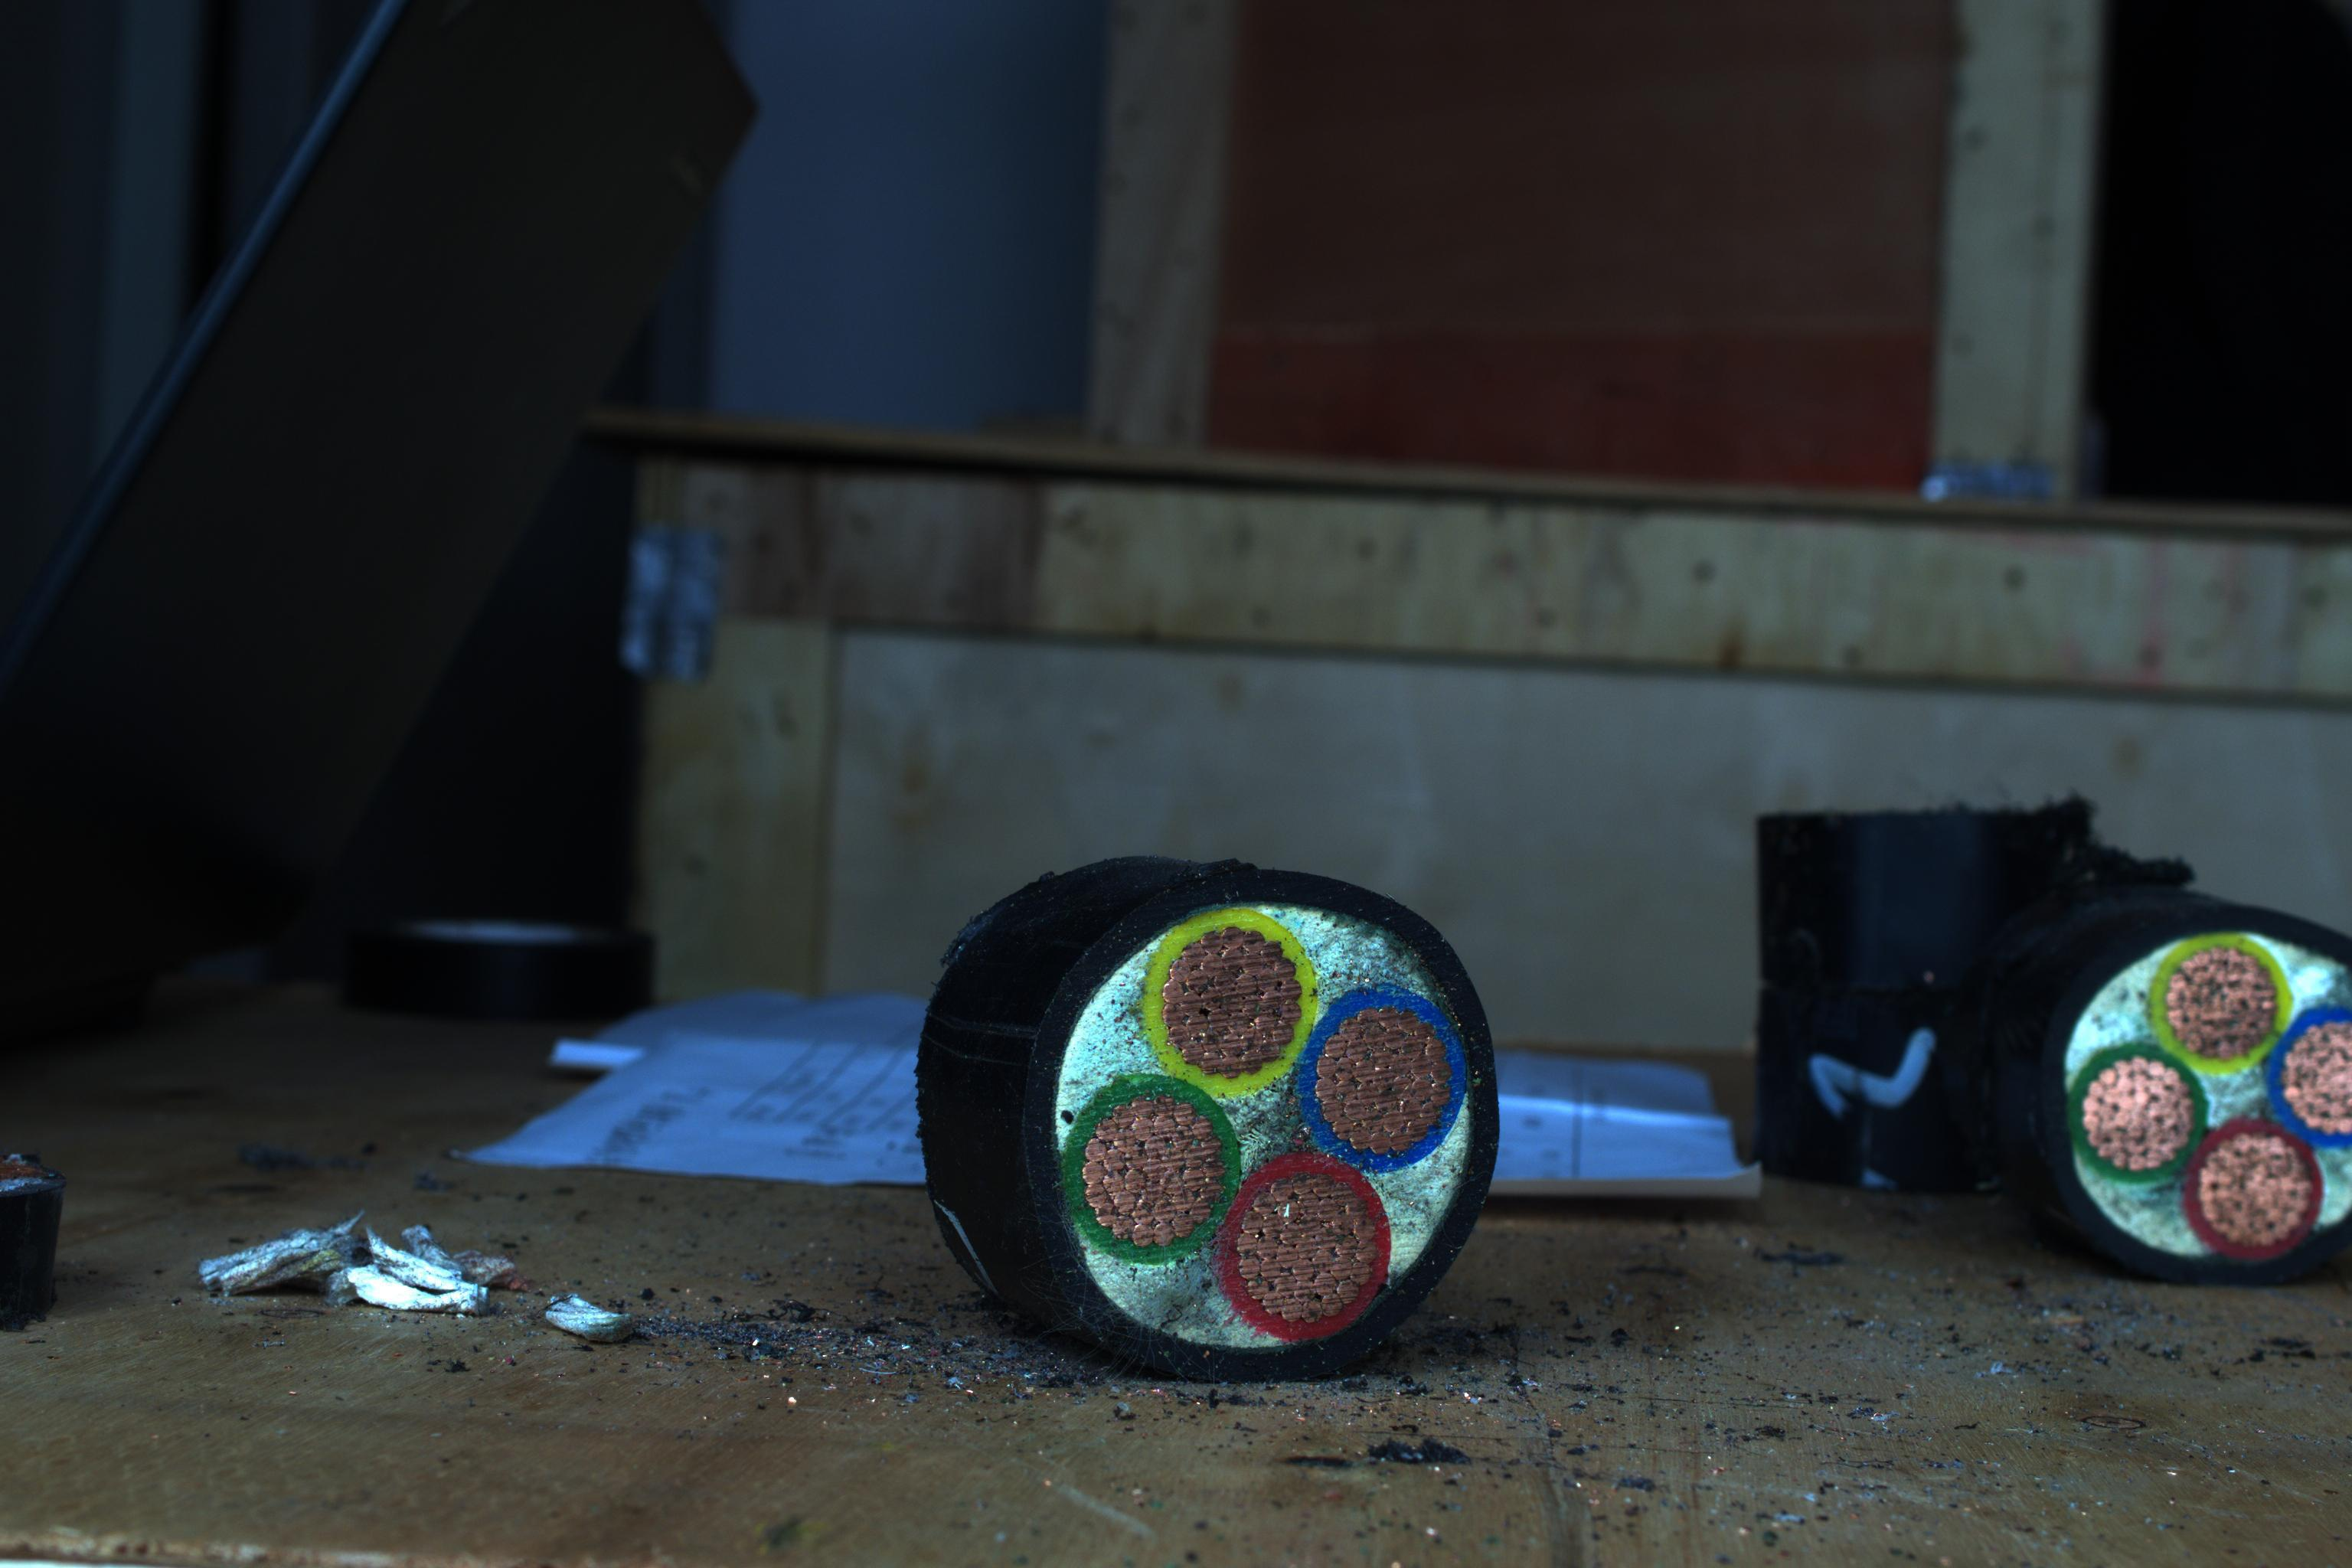YJV_0.6_1kV_4x185: (1017, 877, 1501, 1353)
